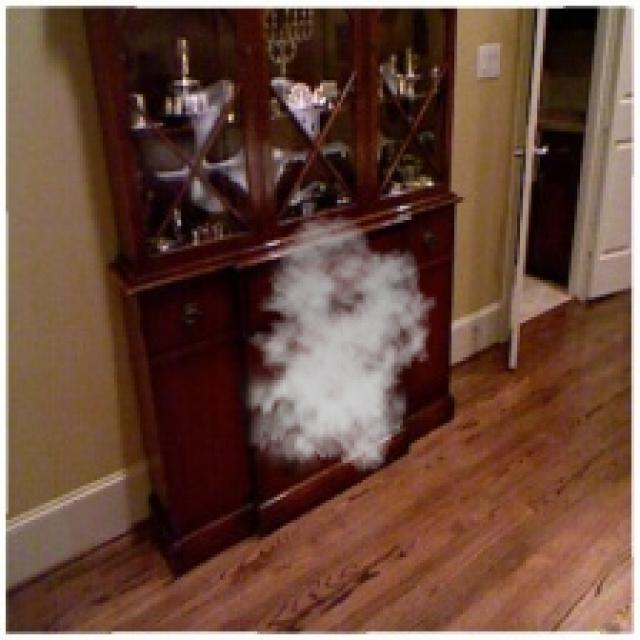smoke: (234, 214, 437, 480)
